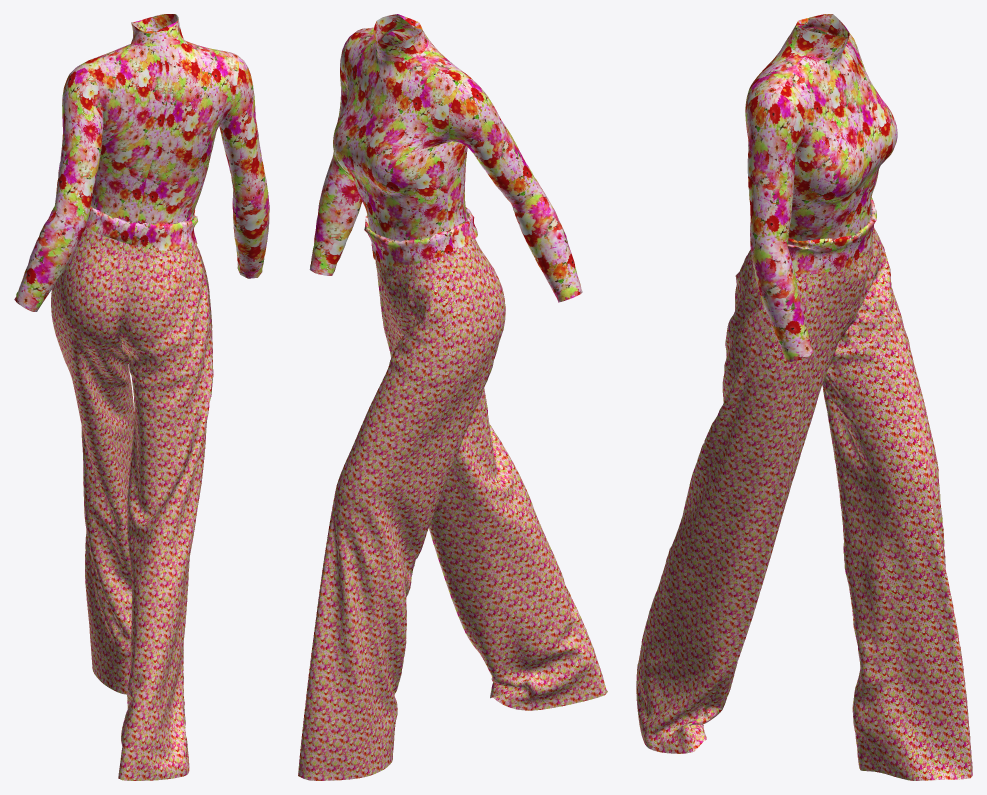
The model's file is DA_HighNeck+WidePants_0000173.obj.
The picture shows the model from 3 angles, left to right: view 1: azimuth 30°, elevation 25°; view 2: azimuth 150°, elevation 25°; view 3: azimuth 270°, elevation 25°; orthographic projection. The views are drawn at different scales.
Bounding box in the file's own units: 0.6103 × 1.6 × 0.6482.
